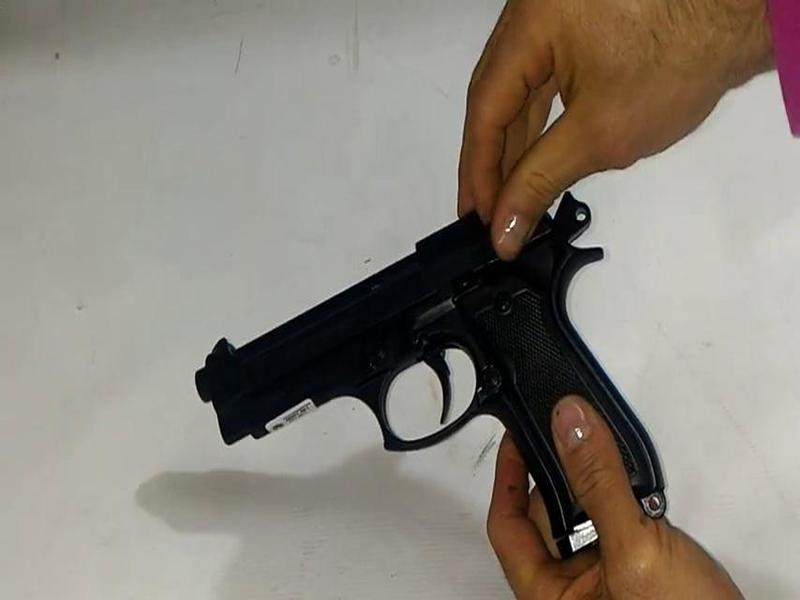Pistola: (186, 205, 683, 540)
